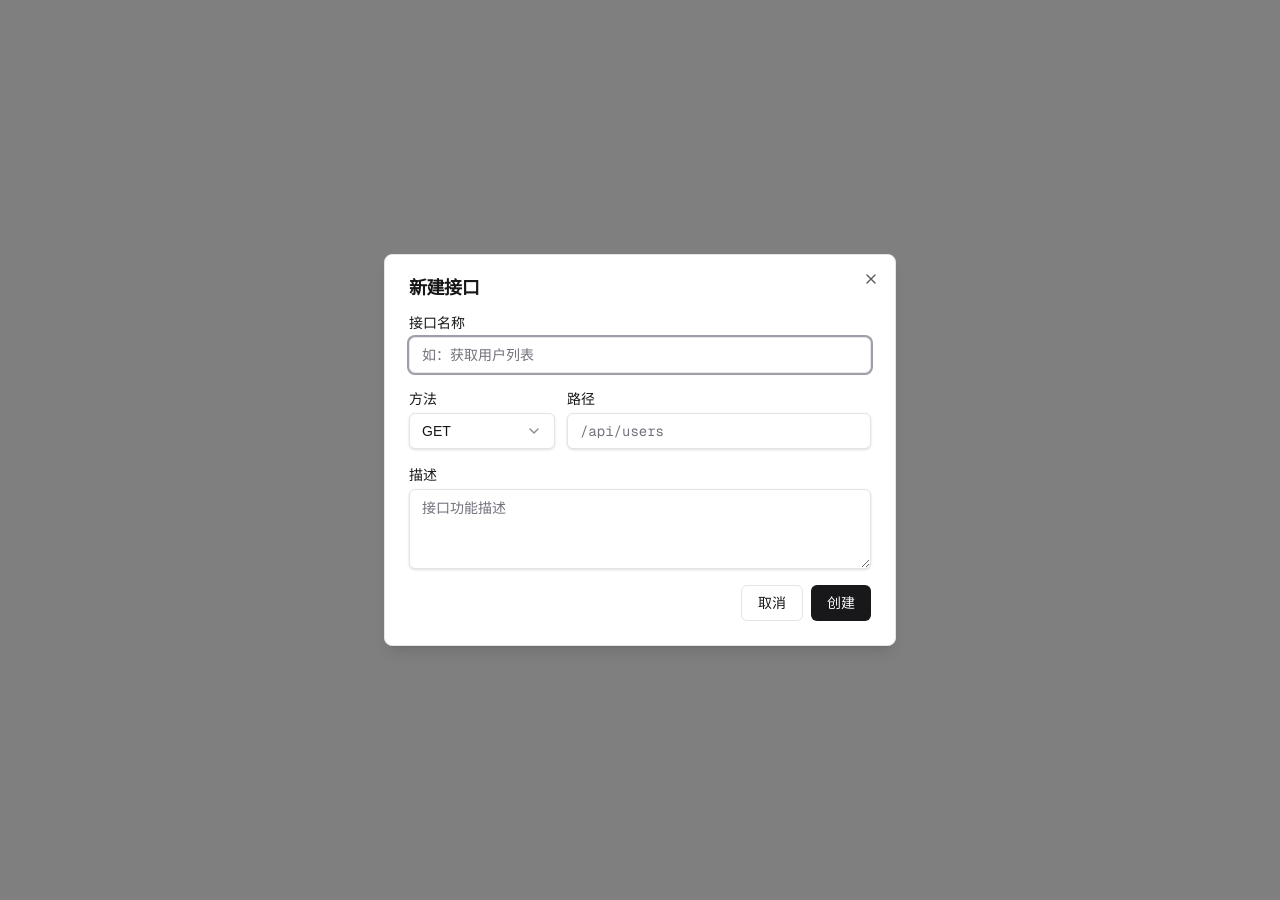
CreateEndpointDialog › clears error when path is edited
Click the button "创建": click(841, 603) [811,585,871,621]
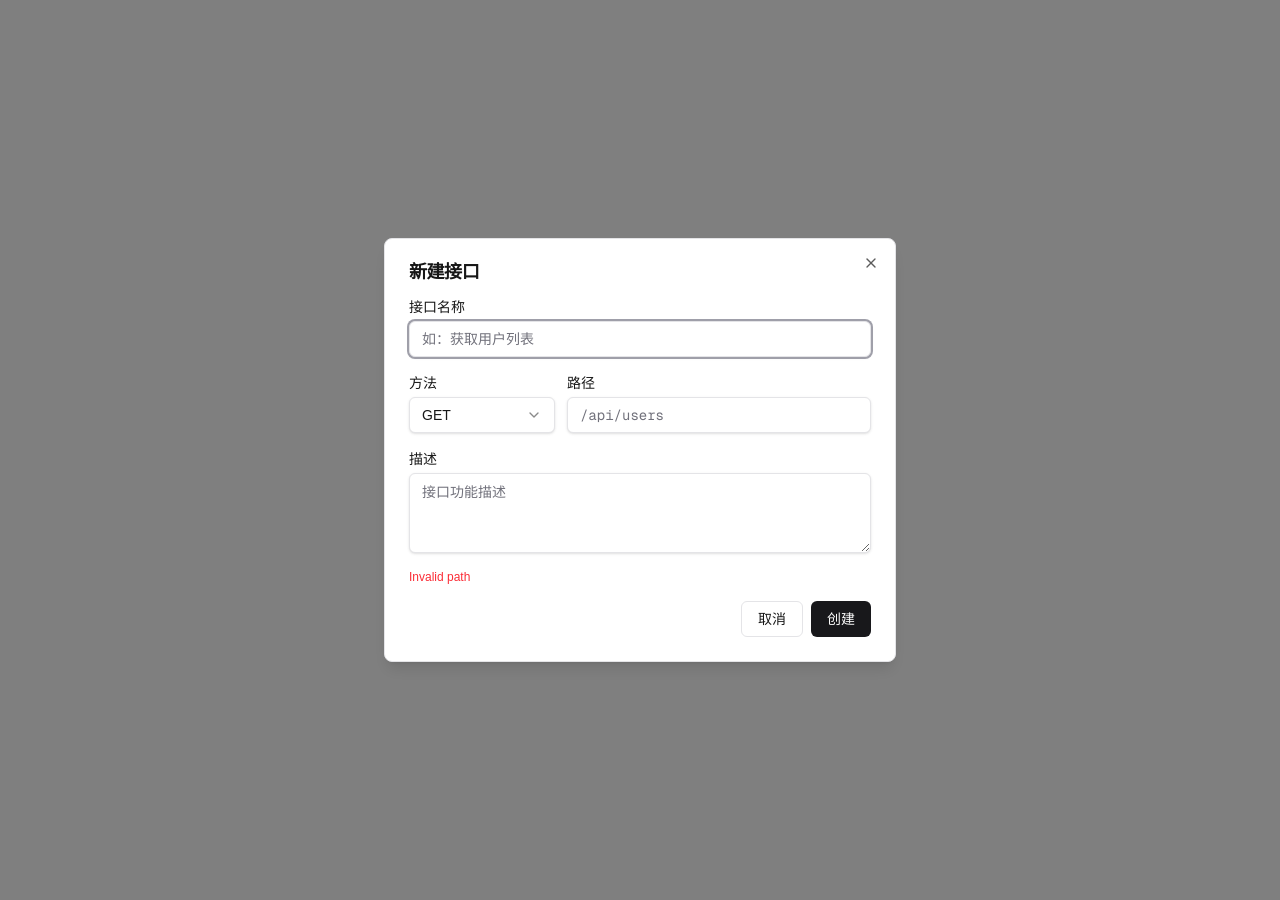
Now the text "Invalid path" is shown, box [409,570,470,584]
In the field with placeholder "/api/users": (719, 415) [567,397,871,433], type "/api/new"
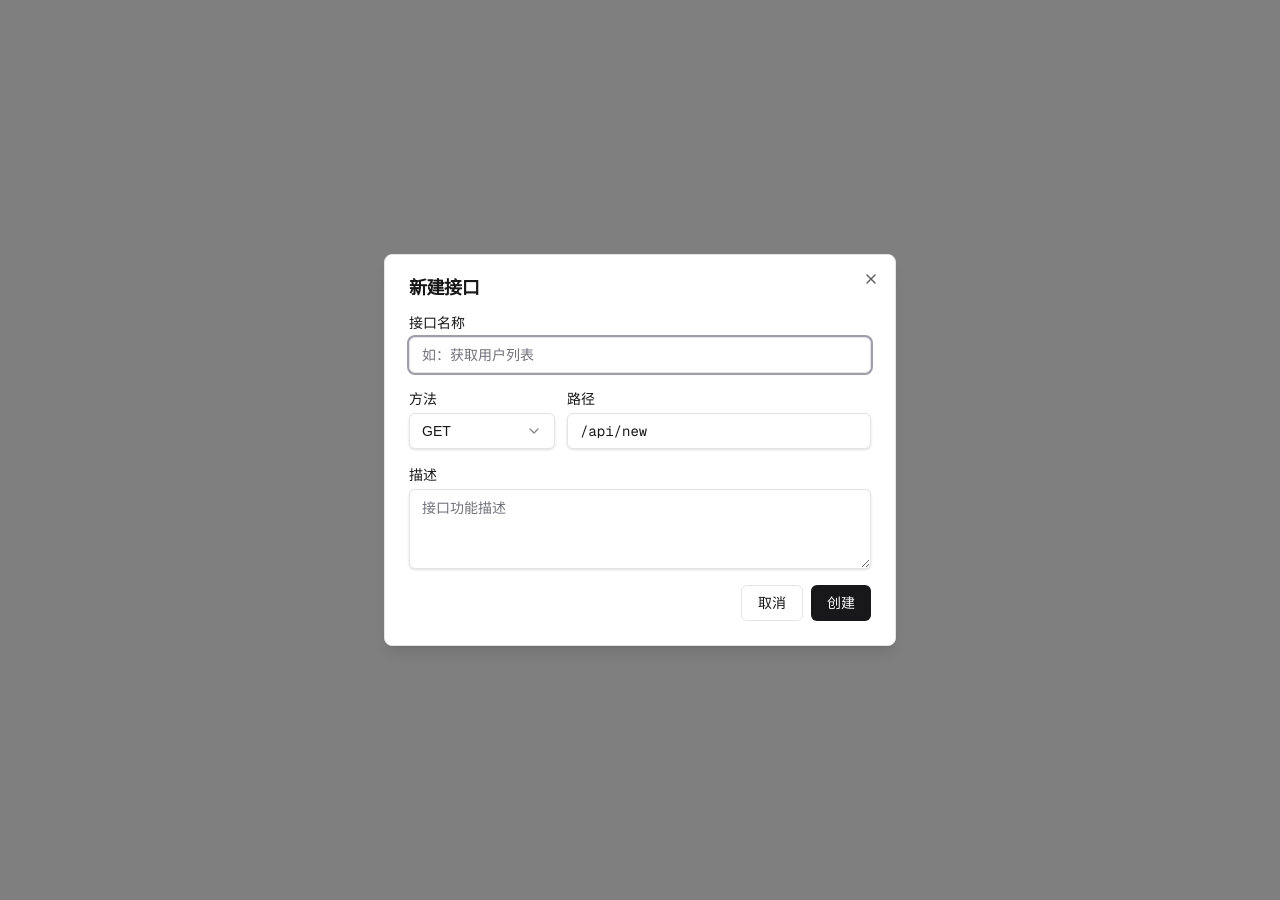
Now the text "Invalid path" is gone
